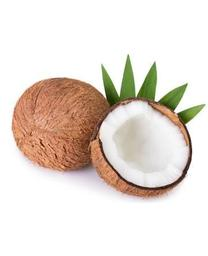coconut: (90, 98, 192, 198), (11, 78, 111, 172)
